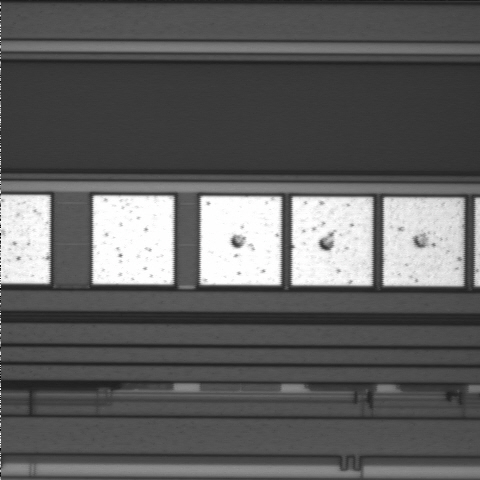pad: (93, 195, 174, 285), (200, 196, 281, 285), (383, 197, 464, 286), (292, 197, 372, 286)
